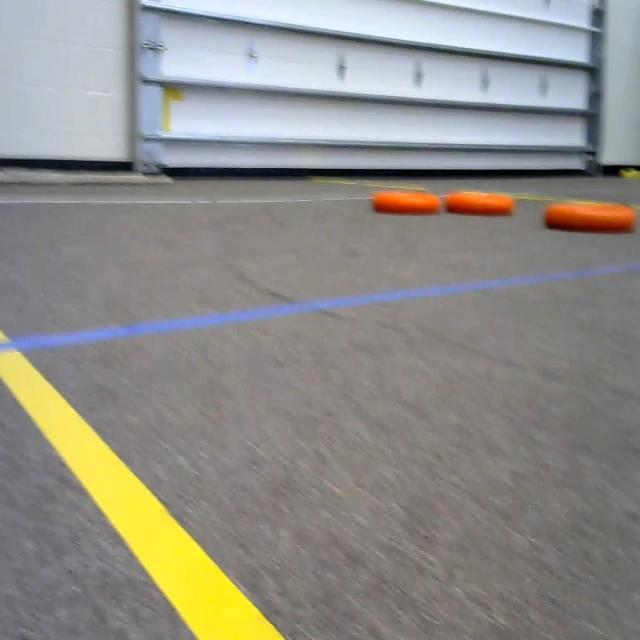note: (541, 186, 640, 240), (369, 180, 443, 227), (442, 180, 518, 224)
